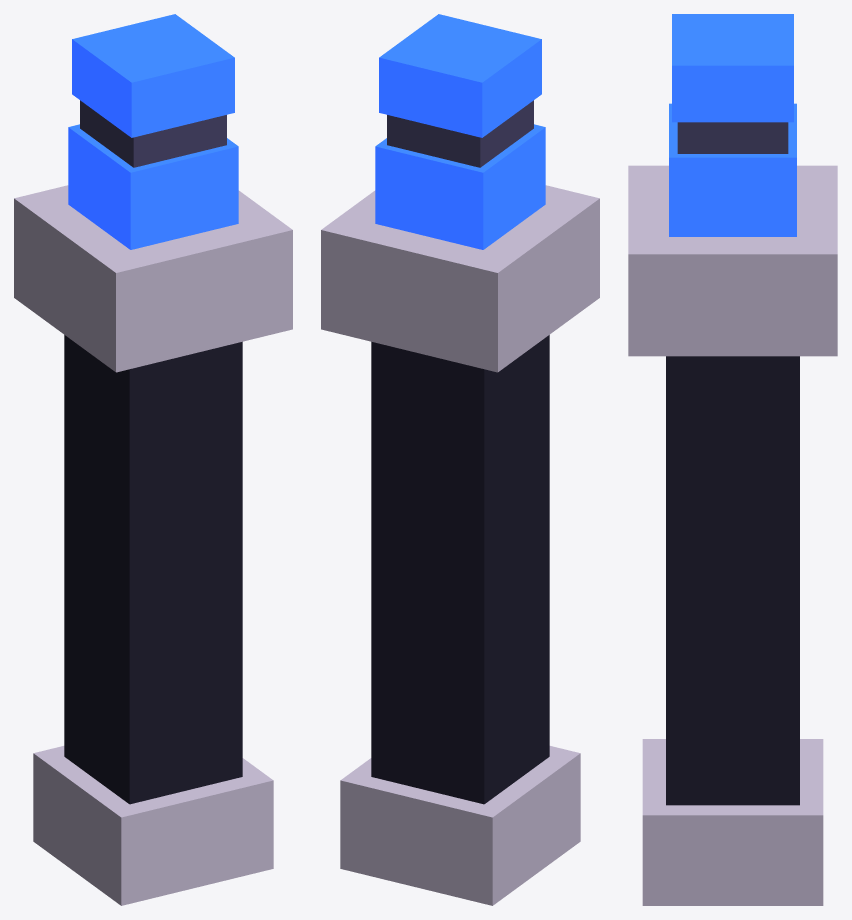
Rendered from baton.lod1.glb.
3 views of the same model, side by side, from view 1: azimuth 30°, elevation 25°; view 2: azimuth 150°, elevation 25°; view 3: azimuth 270°, elevation 25° (orthographic). The views are drawn at different scales.
Parts seen in each view (by area): view 1: item.baton.body, part.blade; view 2: item.baton.body, part.blade; view 3: item.baton.body, part.blade.
Boxes of the visible parts, bbox=[...] form: item.baton.body: bbox=[14, 185, 292, 905]; part.blade: bbox=[68, 14, 238, 249]; item.baton.body: bbox=[321, 185, 599, 905]; part.blade: bbox=[375, 14, 545, 249]; item.baton.body: bbox=[628, 165, 837, 905]; part.blade: bbox=[669, 14, 796, 236].
Size of the model in its own units: 0.1046 by 0.4563 by 0.1046.
